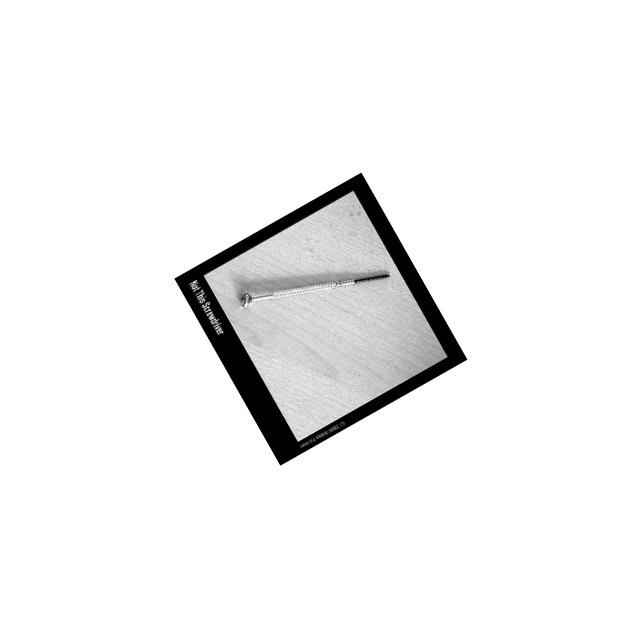screwdriver: (230, 220, 400, 353)
